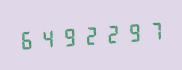four: (38, 23, 58, 52)
nine: (122, 17, 142, 46), (59, 22, 79, 50)
seven: (143, 16, 163, 44)
six: (17, 25, 37, 53)
two: (80, 20, 100, 49), (101, 19, 121, 47)
